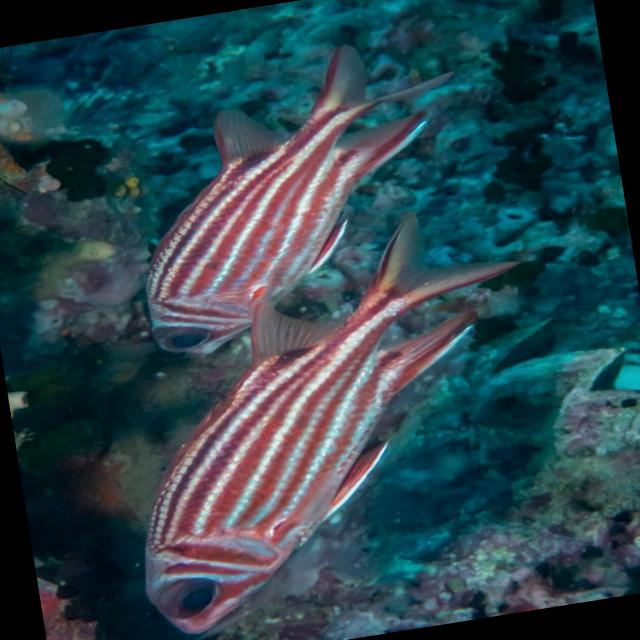Asker Baligi: (89, 193, 571, 640), (108, 26, 494, 365)
